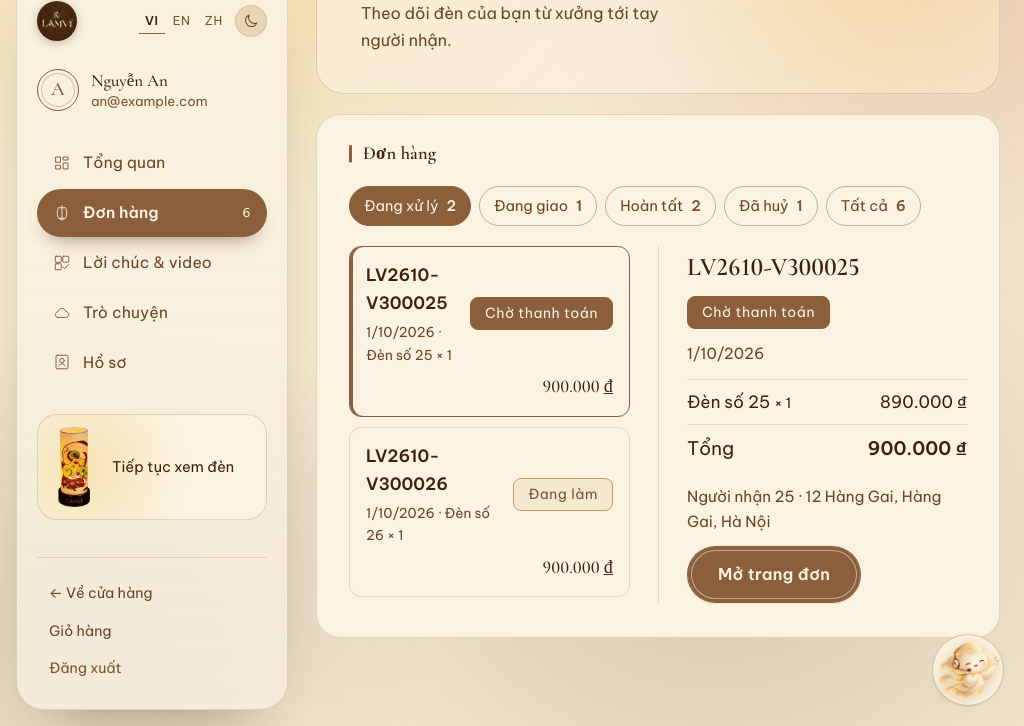
Test: Tab Đơn hàng — chip lọc và chi tiết › chọn đơn → chi tiết bên phải đổi theo (sản phẩm, tổng, người nhận, liên kết)
The image size is (1024, 726).
(page scrolled)
Expected: the link "Soạn lời chúc" is not shown
Click the button with class "order-row" that starts with "LV2610-V300026". click: (489, 512)
box: x1=349 y1=427 x2=630 y2=597
(page scrolled)
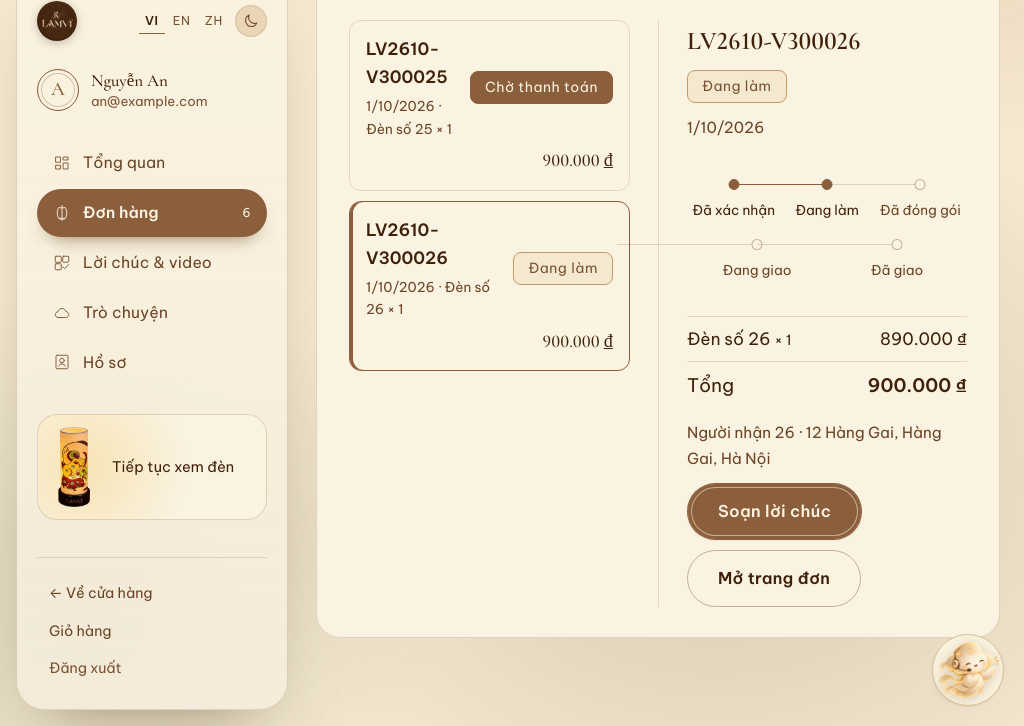
Expected: the element with class "dash-order-detail" shows "900.000", x1=868 y1=372 x2=967 y2=396
Now the button with class "order-row" is pressed, box x1=349 y1=201 x2=630 y2=371
Now the button with class "order-row" is not pressed, box x1=349 y1=20 x2=630 y2=191
